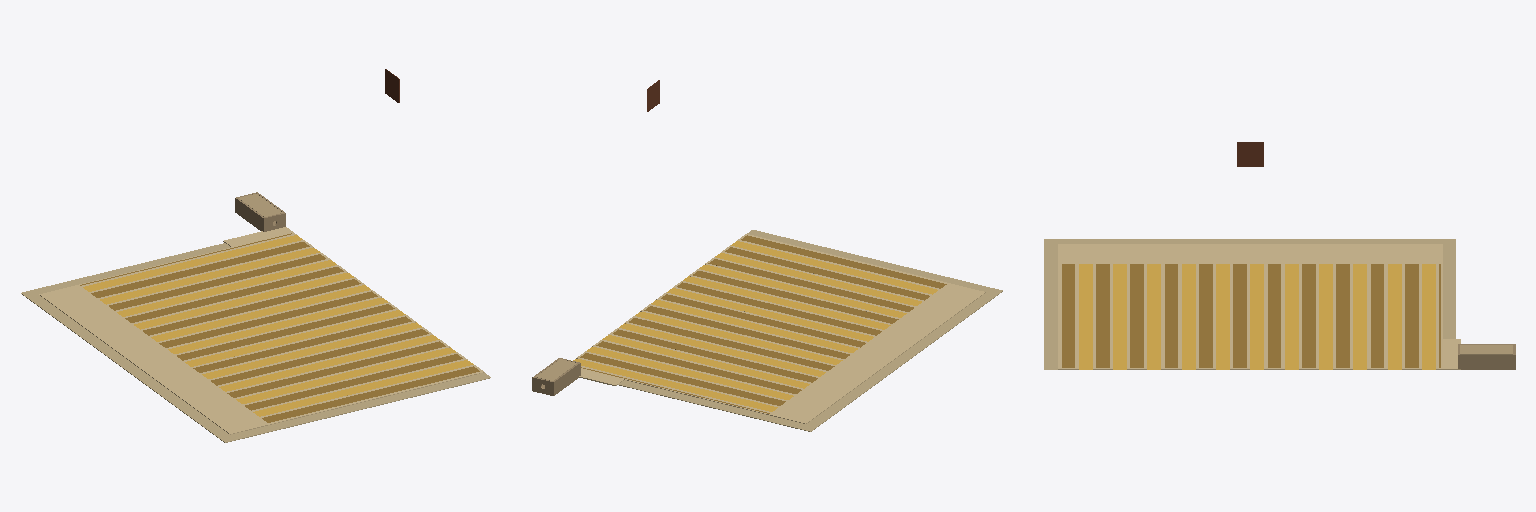
The robot description file, URDF, robot "nest_v2":
<?xml version="1.0"?>
<robot name="nest_v2">
  <!-- Nest mat, version 2. Meshes are metres, copied from altaay_lab/cad/nest_v2/stl.
       The duck is not in this file. Gold domes are on robot.urdf, link gold_domes.
       CAD check only. Not a hardware dock. -->
  <link name="felt_base">
    <visual>
      <geometry><mesh filename="nest/felt_base.stl"/></geometry>
      <material name="felt"><color rgba="0.78 0.71 0.56 1"/></material>
    </visual>
  </link>
  <link name="felt_top">
    <visual>
      <geometry><mesh filename="nest/felt_top.stl"/></geometry>
      <material name="felt_top"><color rgba="0.84 0.76 0.60 1"/></material>
    </visual>
  </link>
  <joint name="felt_top_fixed" type="fixed">
    <parent link="felt_base"/><child link="felt_top"/>
  </joint>
  <link name="stripe_plus">
    <visual>
      <geometry><mesh filename="nest/stripe_plus.stl"/></geometry>
      <material name="plus"><color rgba="0.88 0.72 0.35 1"/></material>
    </visual>
  </link>
  <joint name="stripe_plus_fixed" type="fixed">
    <parent link="felt_base"/><child link="stripe_plus"/>
  </joint>
  <link name="stripe_minus">
    <visual>
      <geometry><mesh filename="nest/stripe_minus.stl"/></geometry>
      <material name="minus"><color rgba="0.65 0.52 0.28 1"/></material>
    </visual>
  </link>
  <joint name="stripe_minus_fixed" type="fixed">
    <parent link="felt_base"/><child link="stripe_minus"/>
  </joint>
  <link name="cord_pocket">
    <visual>
      <geometry><mesh filename="nest/cord_pocket.stl"/></geometry>
      <material name="pla"><color rgba="0.66 0.58 0.46 1"/></material>
    </visual>
  </link>
  <joint name="cord_pocket_fixed" type="fixed">
    <parent link="felt_base"/><child link="cord_pocket"/>
  </joint>
  <link name="cord_cap">
    <visual>
      <geometry><mesh filename="nest/cord_cap.stl"/></geometry>
      <material name="cap"><color rgba="0.74 0.66 0.52 1"/></material>
    </visual>
  </link>
  <joint name="cord_cap_fixed" type="fixed">
    <parent link="felt_base"/><child link="cord_cap"/>
  </joint>
  <link name="wall_card">
    <visual>
      <geometry><mesh filename="nest/wall_card.stl"/></geometry>
      <material name="card"><color rgba="0.45 0.28 0.20 1"/></material>
    </visual>
  </link>
  <joint name="wall_card_fixed" type="fixed">
    <parent link="felt_base"/><child link="wall_card"/>
  </joint>
</robot>

--- What the picture shows (computed from the rendered views, not written in the file) ---
The picture shows the robot from 3 angles, left to right: view 1: azimuth 30°, elevation 25°; view 2: azimuth 150°, elevation 25°; view 3: azimuth 270°, elevation 25°; orthographic projection.
Robot: nest_v2 — 7 links, 6 joints (6 fixed); root link felt_base; default pose: all joints at 0.
Visible links, largest first — view 1: felt_top, stripe_minus, stripe_plus, felt_base, cord_pocket; view 2: felt_top, stripe_minus, stripe_plus, felt_base, cord_pocket; view 3: felt_top, stripe_plus, stripe_minus, felt_base, cord_pocket, wall_card, cord_cap.
Link boxes in pixels (x1=…): felt_top: x1=39, y1=227, x2=483, y2=434; stripe_minus: x1=80, y1=233, x2=479, y2=422; stripe_plus: x1=83, y1=235, x2=473, y2=416; felt_base: x1=21, y1=241, x2=490, y2=442; cord_pocket: x1=235, y1=192, x2=285, y2=231; felt_top: x1=576, y1=234, x2=985, y2=423; stripe_minus: x1=580, y1=235, x2=946, y2=413; stripe_plus: x1=573, y1=241, x2=937, y2=411; felt_base: x1=579, y1=230, x2=1002, y2=431; cord_pocket: x1=532, y1=358, x2=580, y2=395; felt_top: x1=1058, y1=244, x2=1460, y2=369; stripe_plus: x1=1079, y1=264, x2=1435, y2=369; stripe_minus: x1=1062, y1=264, x2=1440, y2=367; felt_base: x1=1044, y1=239, x2=1455, y2=369; cord_pocket: x1=1458, y1=344, x2=1515, y2=369; wall_card: x1=1237, y1=142, x2=1263, y2=166; cord_cap: x1=1460, y1=345, x2=1512, y2=354.
Bounding box of the posed robot: 0.457 × 0.686 × 0.37 m (x, y, z).
Meshes: 7 distinct files referenced, 7 mesh visuals loaded (7 binary STL).
